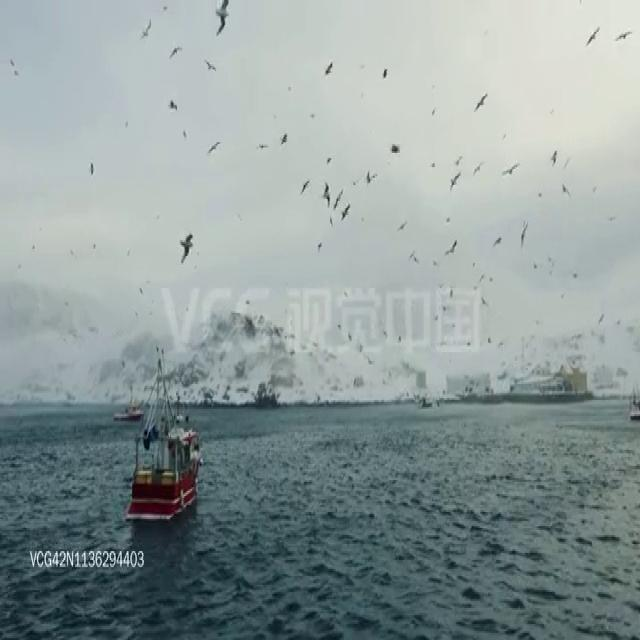fishing boat: (124, 360, 202, 522)
